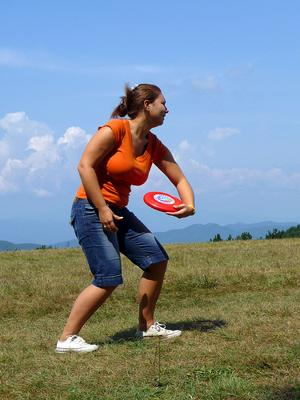person: (55, 82, 195, 357)
